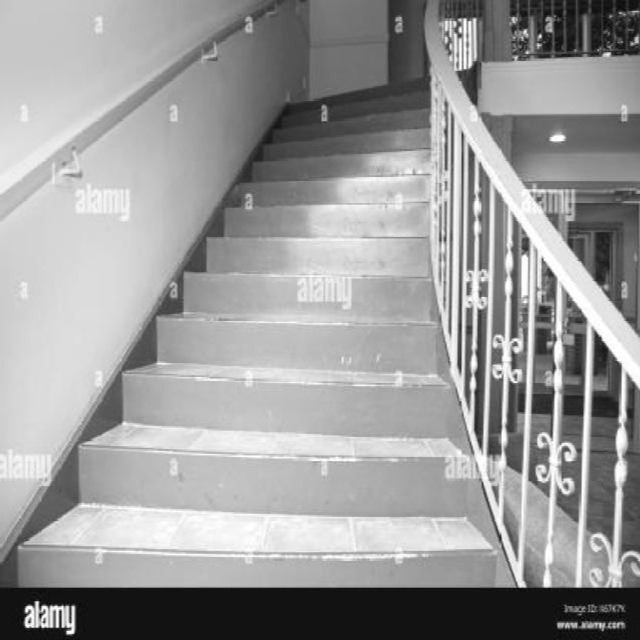stair: (8, 0, 623, 586)
